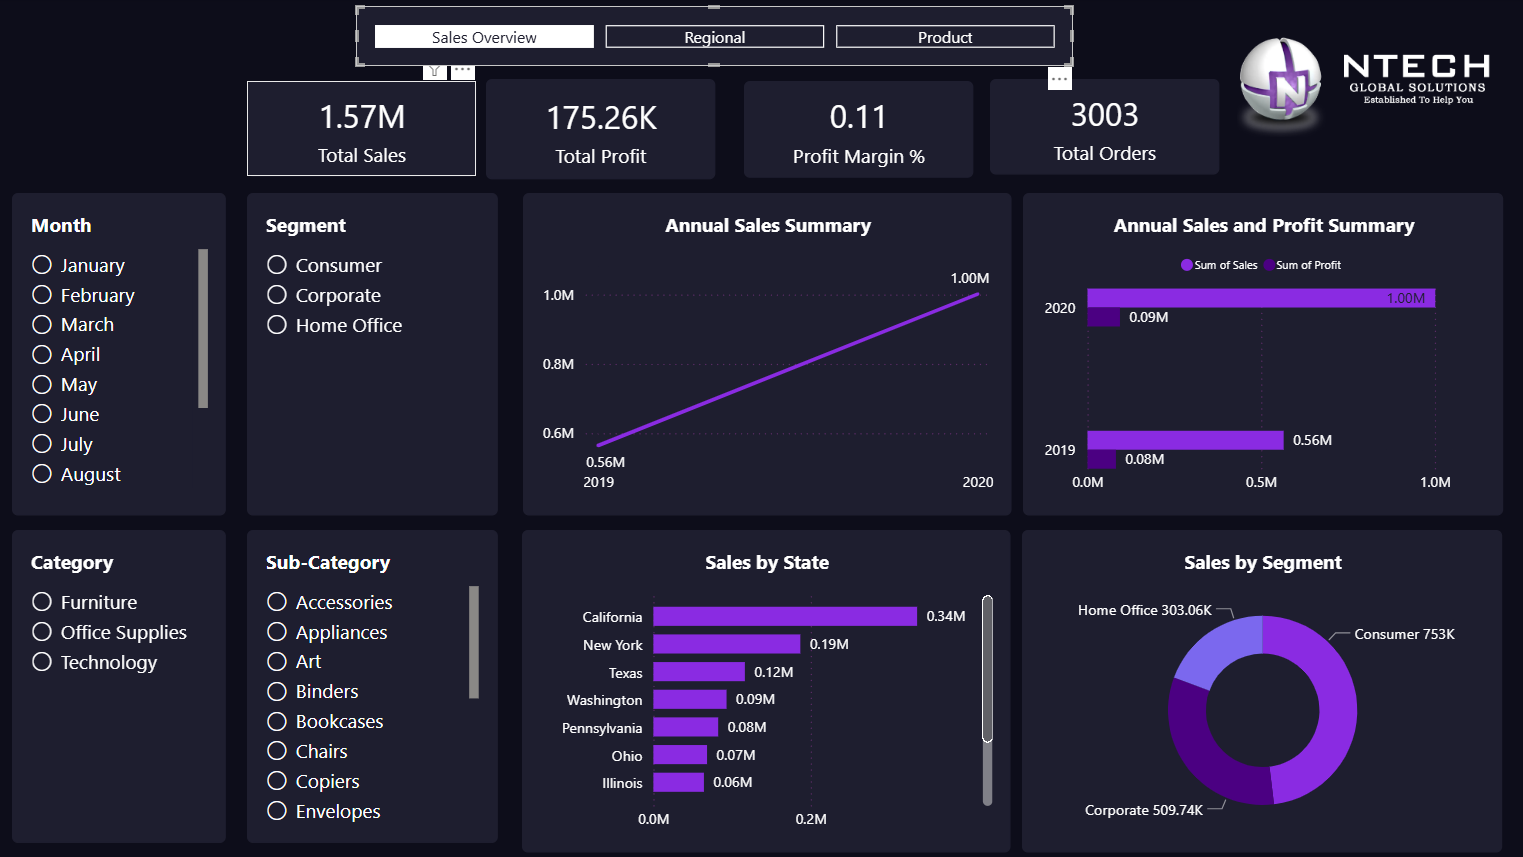

The page's visual inventory and layout, read from the dashboard file:
{"tool":"powerbi","page":{"name":"Sales Overview","canvas":[1280,720],"ordinal":0},"visuals":[{"type":"pageNavigator","box":[300.6,6.9,600.2,50.1],"z":0},{"type":"card","fields":{"Values":["SuperStoreSalesData.Total Sales"]},"box":[209.2,69.7,191.6,79.6],"z":1000},{"type":"card","fields":{"Values":["SuperStoreSalesData.Total Profit"]},"box":[409.6,67.8,191.6,84.5],"z":2000},{"type":"card","fields":{"Values":["SuperStoreSalesData.Profit Margin %"]},"box":[625.8,69.7,191.6,80.6],"z":3000},{"type":"card","fields":{"Values":["SuperStoreSalesData.Total Orders"]},"box":[831.1,67.8,191.6,79.6],"z":4000},{"type":"donutChart","title":"Sales by Segment","fields":{"Category":["SuperStoreSalesData.Segment"],"Y":["SuperStoreSalesData.Total Sales"]},"box":[858.2,445.1,401.9,270],"z":5000},{"type":"lineChart","title":"Annual Sales Summary","fields":{"Category":["SuperStoreSalesData.Order Date.Variation.Date Hierarchy.Year","SuperStoreSalesData.Order Date.Variation.Date Hierarchy.Month"],"Y":["Sum(SuperStoreSalesData.Sales)"]},"box":[440.1,163.1,408.7,270.1],"z":6000},{"type":"clusteredBarChart","title":"Annual Sales and Profit Summary","fields":{"Category":["SuperStoreSalesData.Order Date.Variation.Date Hierarchy.Year"],"Y":["Sum(SuperStoreSalesData.Sales)","Sum(SuperStoreSalesData.Profit)"]},"box":[858.6,163.1,401.8,270.1],"z":7000},{"type":"clusteredBarChart","title":"Sales by State","fields":{"Category":["SuperStoreSalesData.State"],"Y":["SuperStoreSalesData.Total Sales"]},"box":[439.9,445.1,408.8,270],"z":8000},{"type":"listSlicer","fields":{"Values":["SuperStoreSalesData.Order Date.Variation.Date Hierarchy.Month"]},"box":[12.9,163,179.4,270],"z":9000},{"type":"listSlicer","fields":{"Values":["SuperStoreSalesData.Category"]},"box":[12.9,445.1,179.4,262.2],"z":10000},{"type":"listSlicer","fields":{"Values":["SuperStoreSalesData.Segment"]},"box":[209.6,163,209.6,270],"z":11000},{"type":"listSlicer","fields":{"Values":["SuperStoreSalesData.Sub-Category"]},"box":[209.6,445.1,209.6,262.2],"z":12000},{"type":"image","box":[1023,0,245.8,149.2],"z":13000}]}

Visuals, with their boxes in screenshot pixels (x1, y1, x2, y2), scaled from the page's 1280x720 canvas onto the 1523x857 screenshot:
pageNavigator: x1=358 y1=8 x2=1072 y2=68
card - SuperStoreSalesData.Total Sales: x1=249 y1=83 x2=477 y2=178
card - SuperStoreSalesData.Total Profit: x1=487 y1=81 x2=715 y2=181
card - SuperStoreSalesData.Profit Margin %: x1=745 y1=83 x2=973 y2=179
card - SuperStoreSalesData.Total Orders: x1=989 y1=81 x2=1217 y2=175
"Sales by Segment" donutChart: x1=1021 y1=530 x2=1499 y2=851
"Annual Sales Summary" lineChart: x1=524 y1=194 x2=1010 y2=516
"Annual Sales and Profit Summary" clusteredBarChart: x1=1022 y1=194 x2=1500 y2=516
"Sales by State" clusteredBarChart: x1=523 y1=530 x2=1010 y2=851
listSlicer - SuperStoreSalesData.Order Date.Variation.Date Hierarchy.Month: x1=15 y1=194 x2=229 y2=515
listSlicer - SuperStoreSalesData.Category: x1=15 y1=530 x2=229 y2=842
listSlicer - SuperStoreSalesData.Segment: x1=249 y1=194 x2=499 y2=515
listSlicer - SuperStoreSalesData.Sub-Category: x1=249 y1=530 x2=499 y2=842
image: x1=1217 y1=0 x2=1510 y2=178
